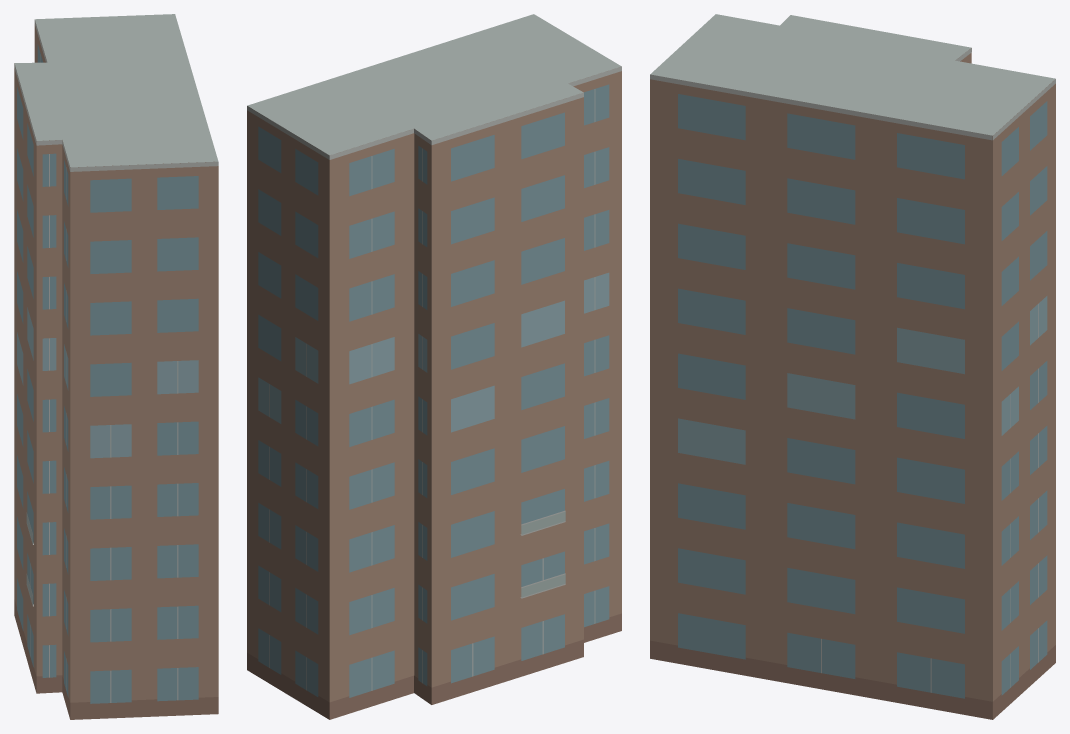
Rendered from survey-upis-32987693.glb.
The picture shows the model from 3 angles, left to right: view 1: azimuth 30°, elevation 25°; view 2: azimuth 150°, elevation 25°; view 3: azimuth 270°, elevation 25°; orthographic projection. The views are drawn at different scales.
Visible parts, largest first — view 1: survey-upis-32987693.tmp; view 2: survey-upis-32987693.tmp; view 3: survey-upis-32987693.tmp.
Boxes of the visible parts, x1,y1,x2,y2 form: survey-upis-32987693.tmp: (14, 14, 218, 719); survey-upis-32987693.tmp: (247, 14, 621, 719); survey-upis-32987693.tmp: (650, 14, 1055, 719).
Size of the model in its own units: 13.37 by 29.9 by 18.83.
